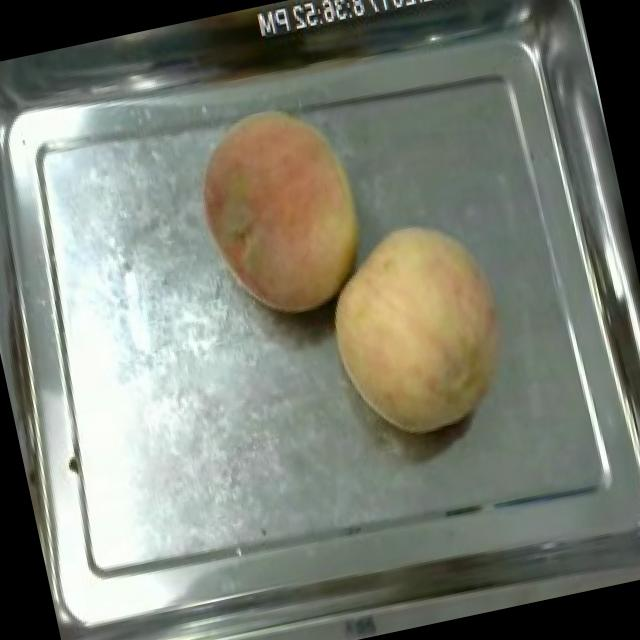Fruit: (305, 202, 528, 453), (173, 87, 390, 336)
